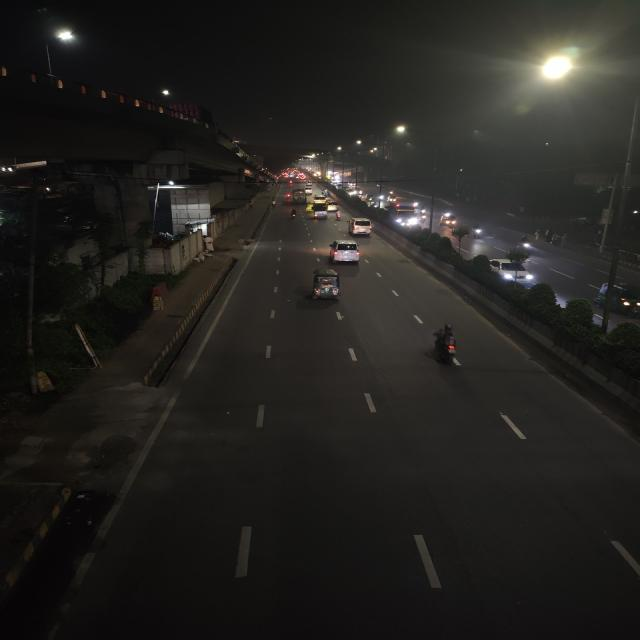bus: (291, 189, 307, 205)
car: (327, 239, 362, 265), (347, 216, 373, 236), (326, 201, 340, 211), (314, 194, 326, 204)
cng: (588, 278, 640, 316), (308, 268, 344, 304), (440, 214, 459, 227)
motorcycle: (425, 322, 470, 369), (588, 279, 640, 316), (516, 235, 534, 252), (471, 224, 484, 238), (288, 208, 299, 220), (332, 210, 342, 221)
pedestrian: (550, 232, 563, 246)
pickup_van: (311, 205, 330, 219)
truck: (390, 203, 420, 227)
